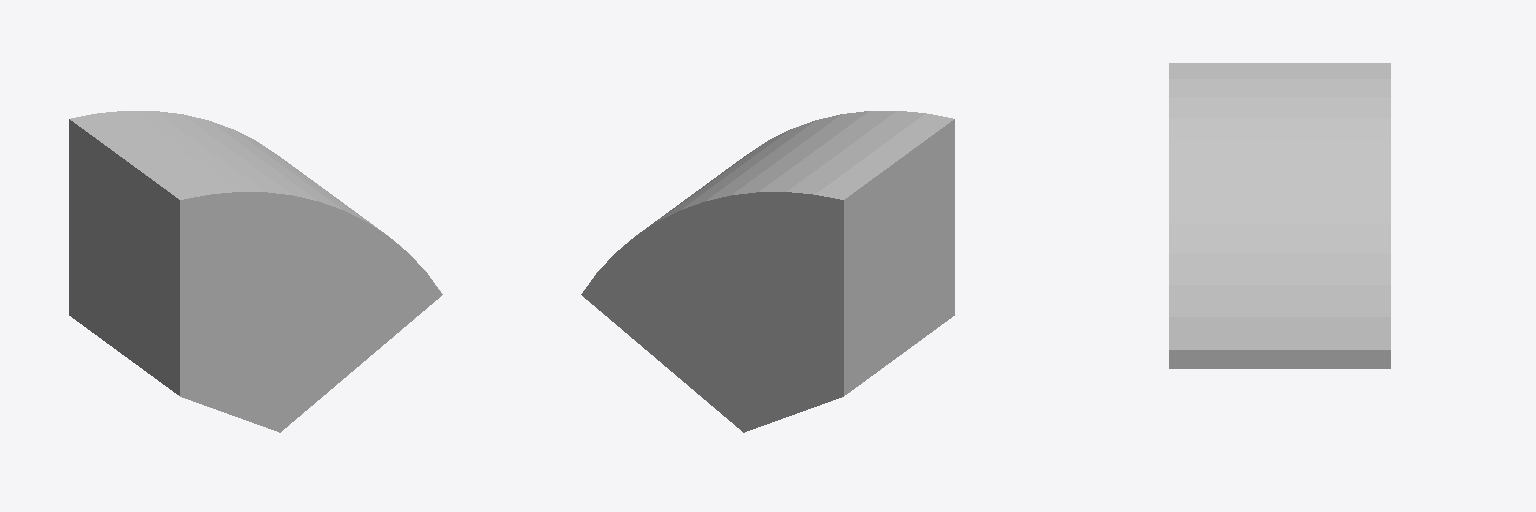
Rendered from round_hexagon_hole_4.obj.
3 renders of one model, left to right at view 1: azimuth 30°, elevation 25°; view 2: azimuth 150°, elevation 25°; view 3: azimuth 270°, elevation 25°, orthographic.
Parts seen in each view (by area): view 1: Body127; view 2: Body127; view 3: Body127.
Boxes of the visible parts, x1,y1,x2,y2 form: Body127: [69, 111, 442, 432]; Body127: [581, 111, 954, 432]; Body127: [1169, 63, 1390, 368].
Size of the model in its own units: 0.0546 by 0.051 by 0.04.